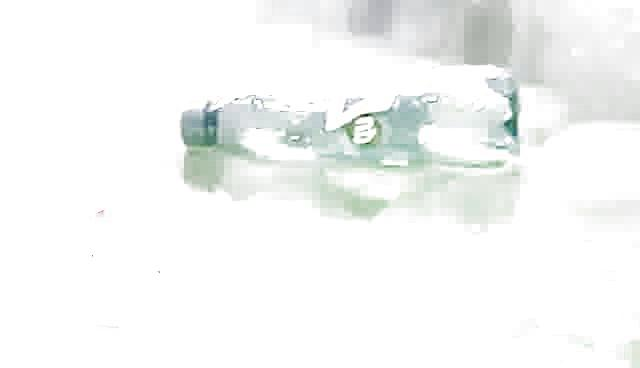Plastic: (178, 58, 525, 176)
